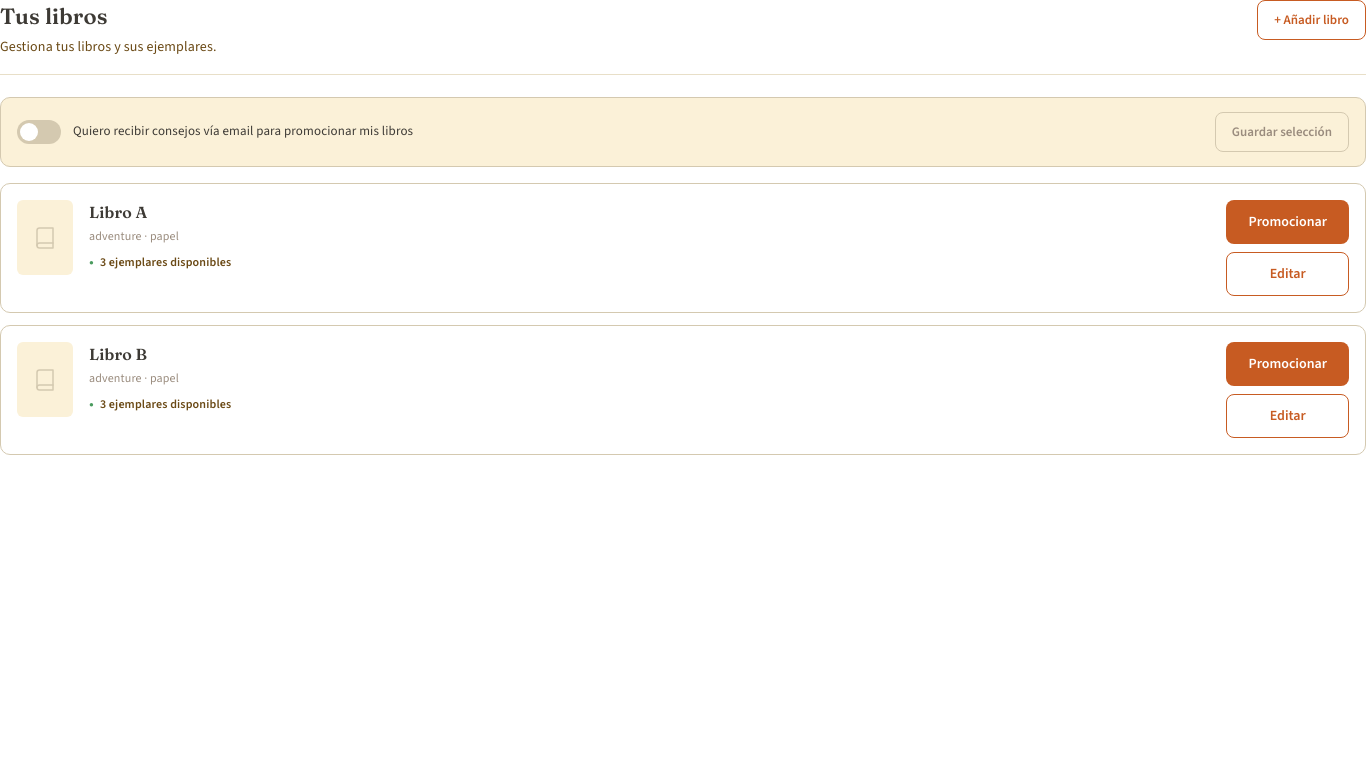
MyBooksSection — promote modal per book › keeps the free CTA on a second book after claiming it on the first
The image size is (1366, 768).
expect the heading "Libro A" is shown: met, box x1=89 y1=202 x2=147 y2=222
Note: Book A: open, claim the free copies, close.
Click the button "Promocionar" in the row of "Libro A" at (1288, 222), box x1=1226 y1=200 x2=1349 y2=244
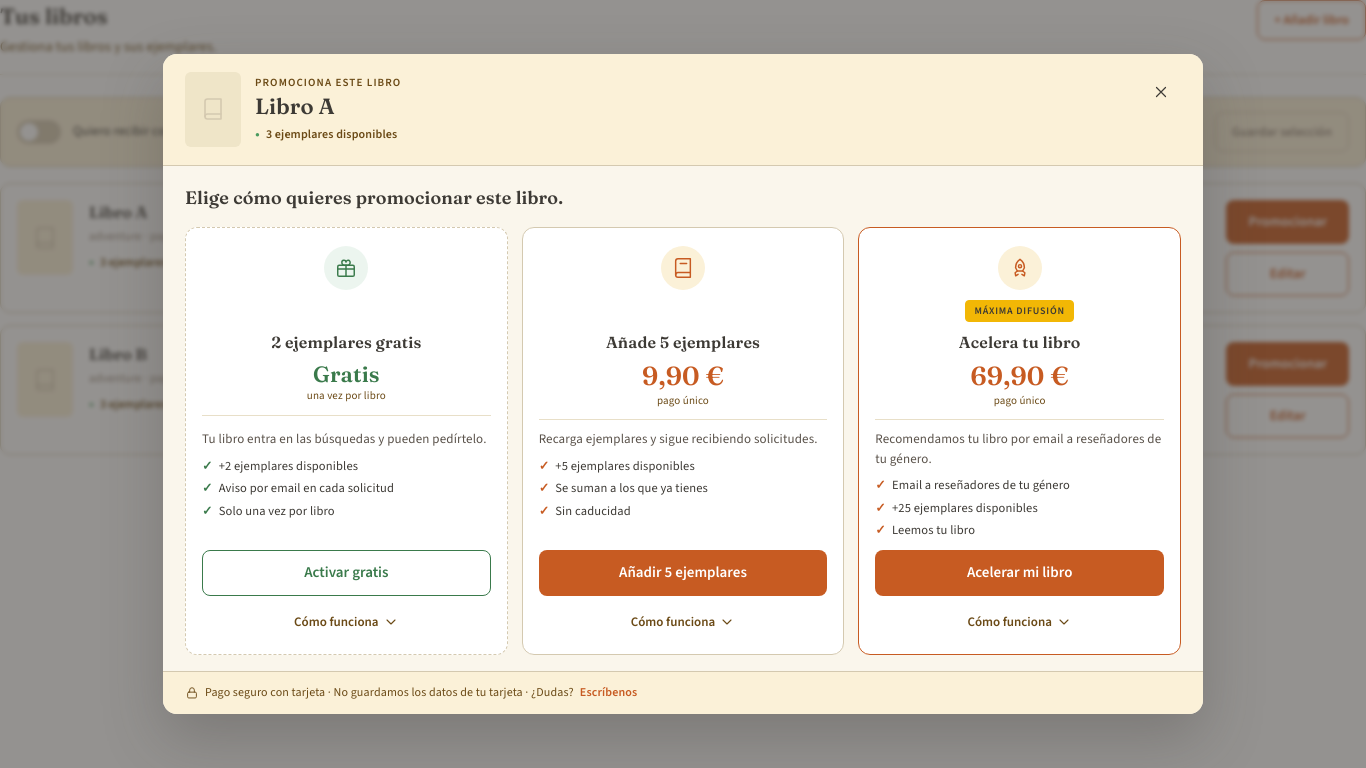
Click the button with aria-label "Activar gratis para" at (346, 573), box x1=202 y1=550 x2=491 y2=596
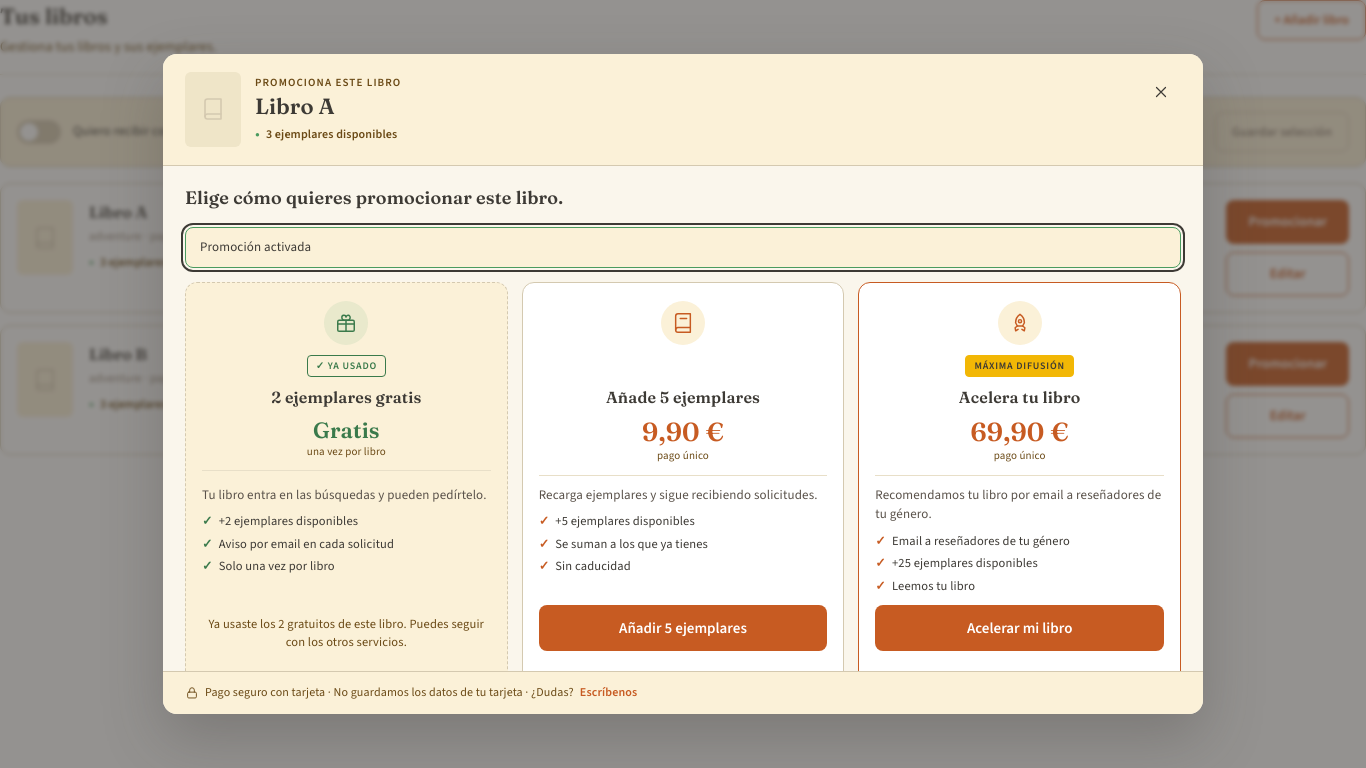
expect the text "Promoción activada" is shown: met, box x1=185 y1=227 x2=1181 y2=268
Click the button named "Cerrar" at (1161, 92), box x1=1141 y1=72 x2=1181 y2=112
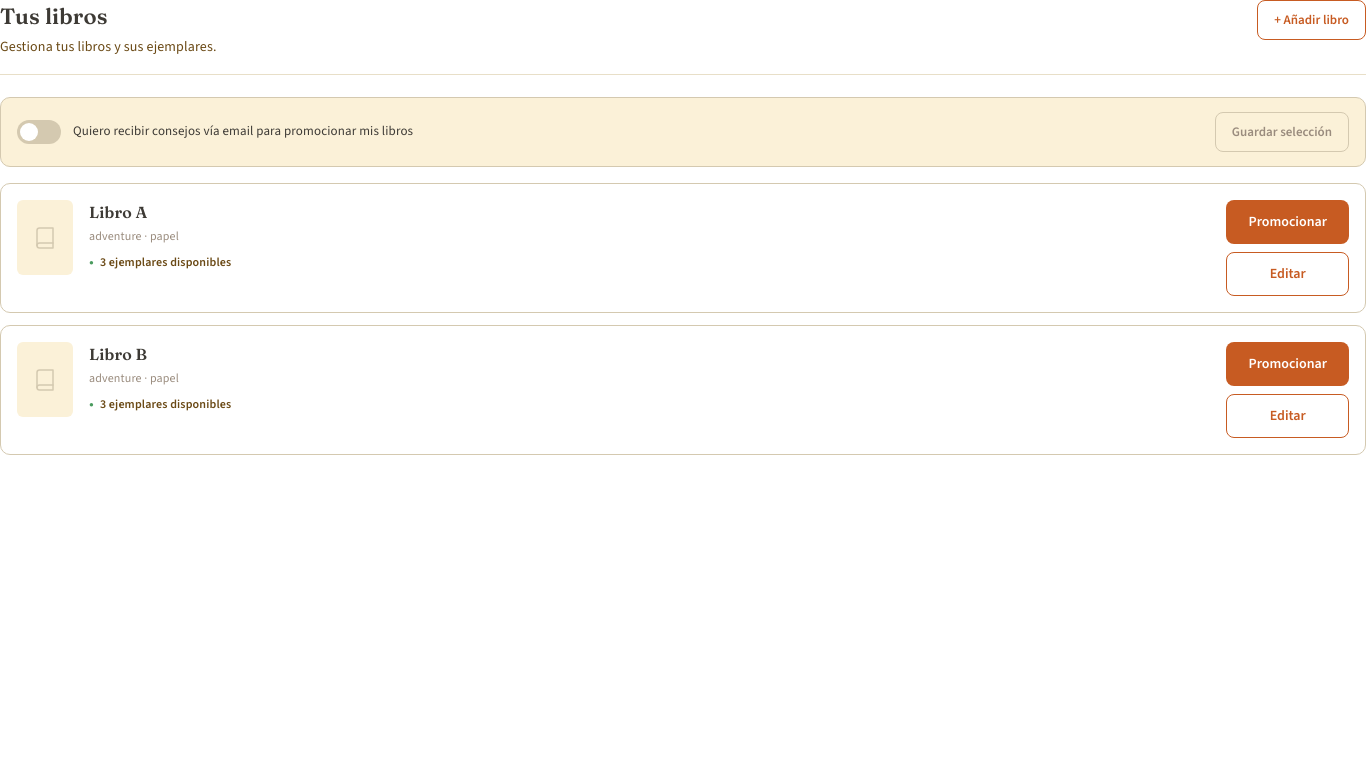
Note: Book B has never been promoted: it must still offer its free copies.
Click the button "Promocionar" in the row of "Libro B" at (1288, 364), box x1=1226 y1=342 x2=1349 y2=386
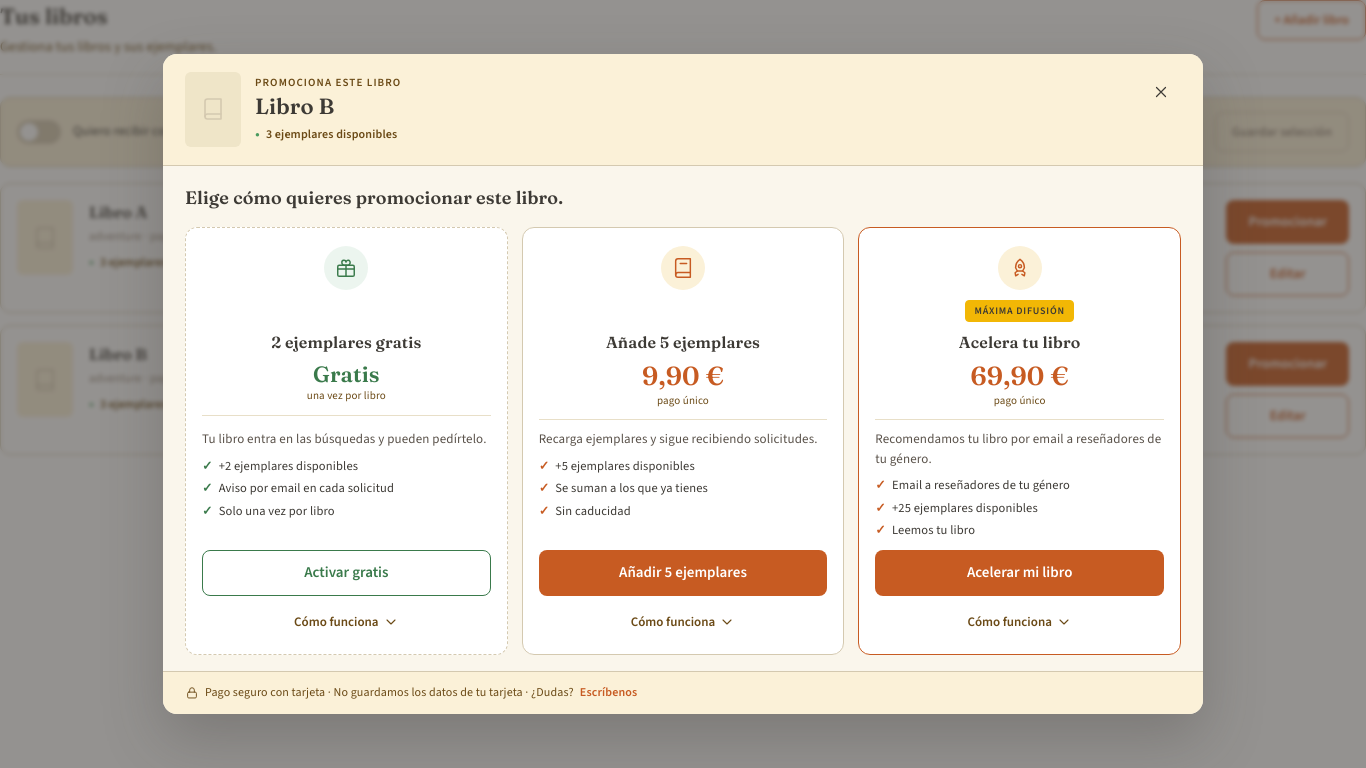
expect the text "Ya usaste los 2 gratuitos" is not shown: met
expect the button with aria-label "Activar gratis para" is shown: met, box x1=202 y1=550 x2=491 y2=596
